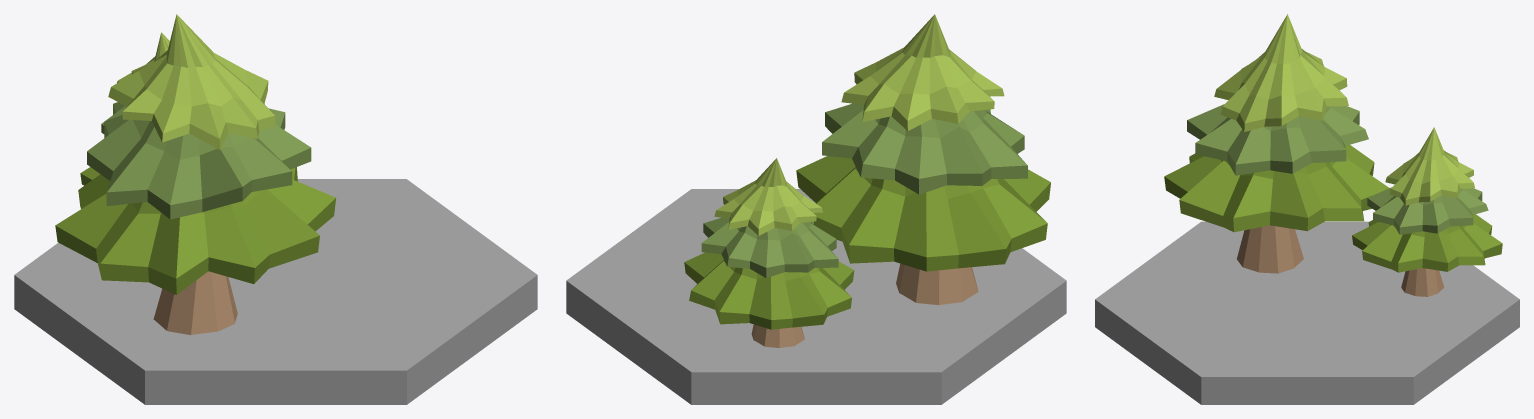
Rendered from hextree0.5.fbx.
3 renders of one model, left to right at view 1: azimuth 30°, elevation 25°; view 2: azimuth 150°, elevation 25°; view 3: azimuth 270°, elevation 25°, orthographic. The views are drawn at different scales.
Parts seen in each view (by area): view 1: tree2; view 2: tree2; view 3: tree2.
Boxes of the visible parts, <box> form: tree2: <box>14,14,537,404</box>; tree2: <box>566,14,1066,404</box>; tree2: <box>1095,14,1519,404</box>.
Size of the model in its own units: 0.8955 by 0.6987 by 1.
